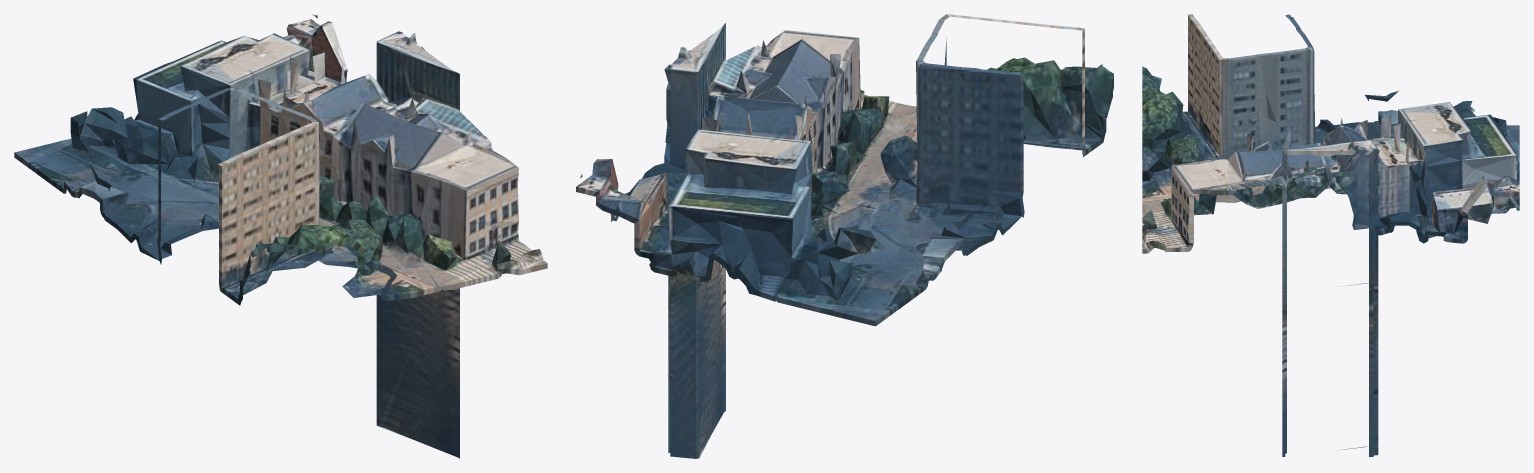
File: chunk_0_-10.glb
The picture shows the model from 3 angles, left to right: view 1: azimuth 30°, elevation 25°; view 2: azimuth 150°, elevation 25°; view 3: azimuth 270°, elevation 25°; orthographic projection. The views are drawn at different scales.
Parts seen in each view (by area): view 1: hero-chunk; view 2: hero-chunk; view 3: hero-chunk.
Part boxes in pixels (<box>): hero-chunk: <box>14,14,547,458</box>; hero-chunk: <box>576,14,1113,458</box>; hero-chunk: <box>1142,14,1519,456</box>.
Bounding box in the file's own units: 56.65 × 72.92 × 76.32.
2 materials, 2 textured.
